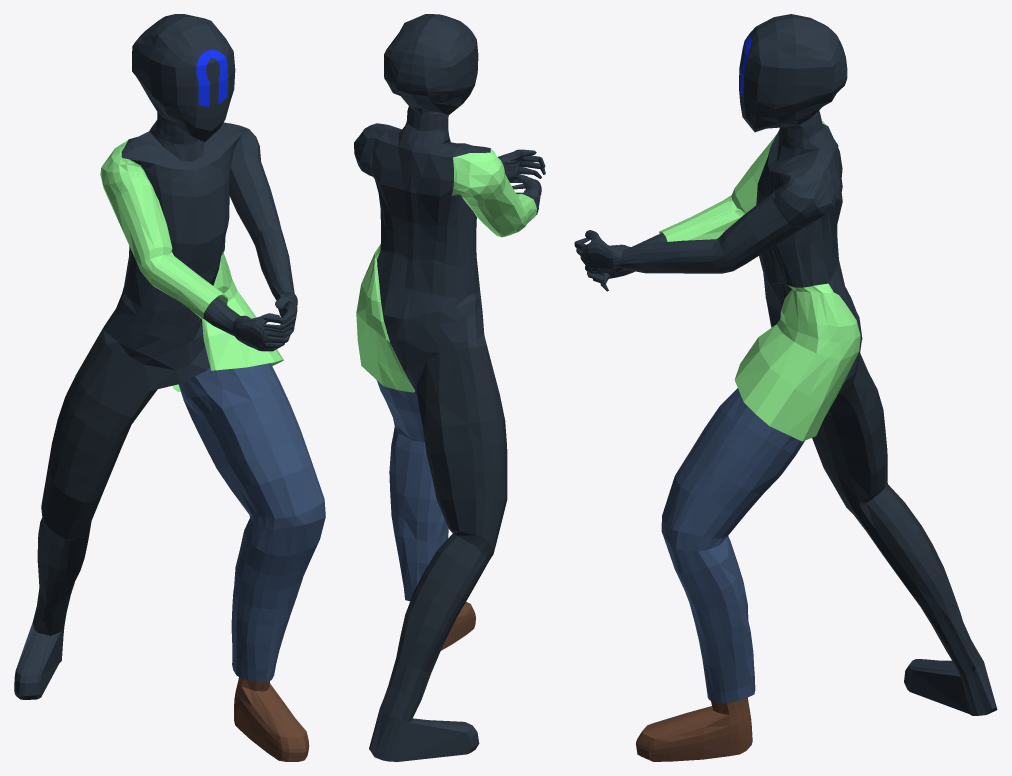
The model's file is Enemy_Sword.obj.
3 renders of one model, left to right at view 1: azimuth 30°, elevation 25°; view 2: azimuth 150°, elevation 25°; view 3: azimuth 270°, elevation 25°, orthographic. The views are drawn at different scales.
Visible parts, largest first — view 1: Cube.000_Cube.001; view 2: Cube.000_Cube.001; view 3: Cube.000_Cube.001.
Boxes of the visible parts, left/top/right/bottom form: Cube.000_Cube.001: left=14, top=14, right=325, bottom=761; Cube.000_Cube.001: left=354, top=14, right=545, bottom=761; Cube.000_Cube.001: left=574, top=14, right=997, bottom=761.
Bounding box in the file's own units: 1.08 × 3.72 × 1.99.
1 material, 1 textured.
